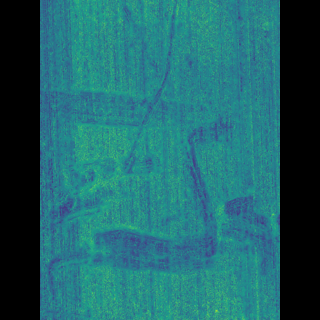Loch: (173, 111, 250, 282), (129, 0, 182, 174), (71, 221, 210, 287), (77, 142, 160, 227)
